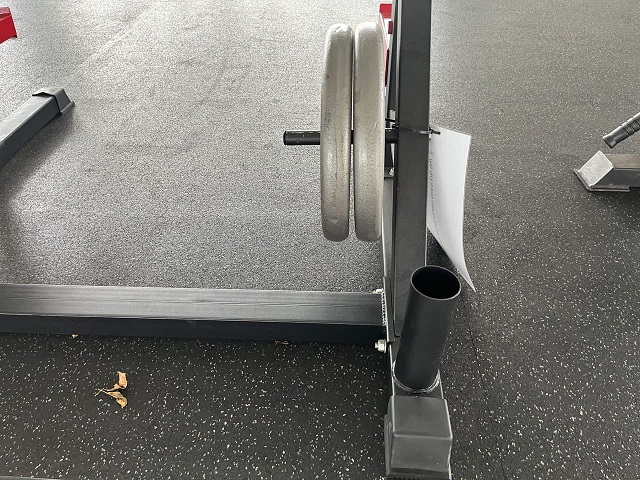weights: (353, 18, 386, 242), (320, 20, 353, 239)
